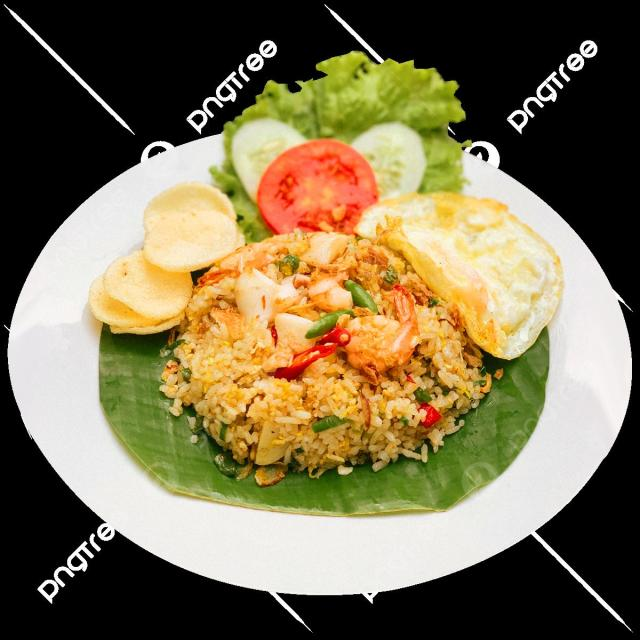Nasi Goreng: (157, 213, 479, 478)
